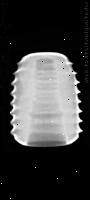Cowellmedi: (10, 50, 82, 148)
